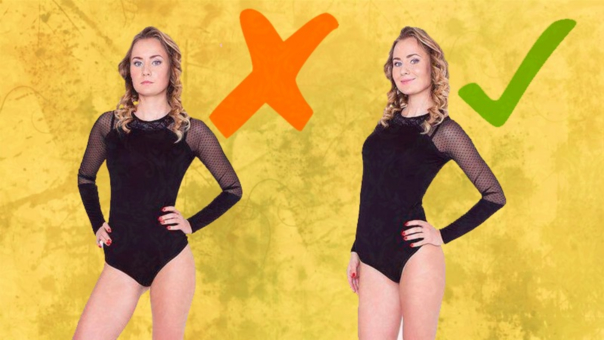person: (334, 33, 456, 164), (89, 30, 210, 162)
